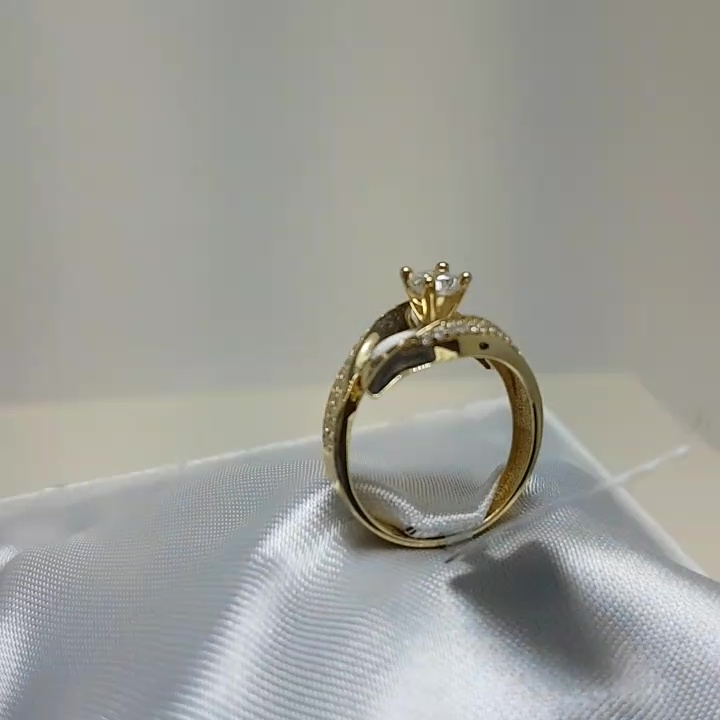Ring 6: (288, 243, 554, 568)
